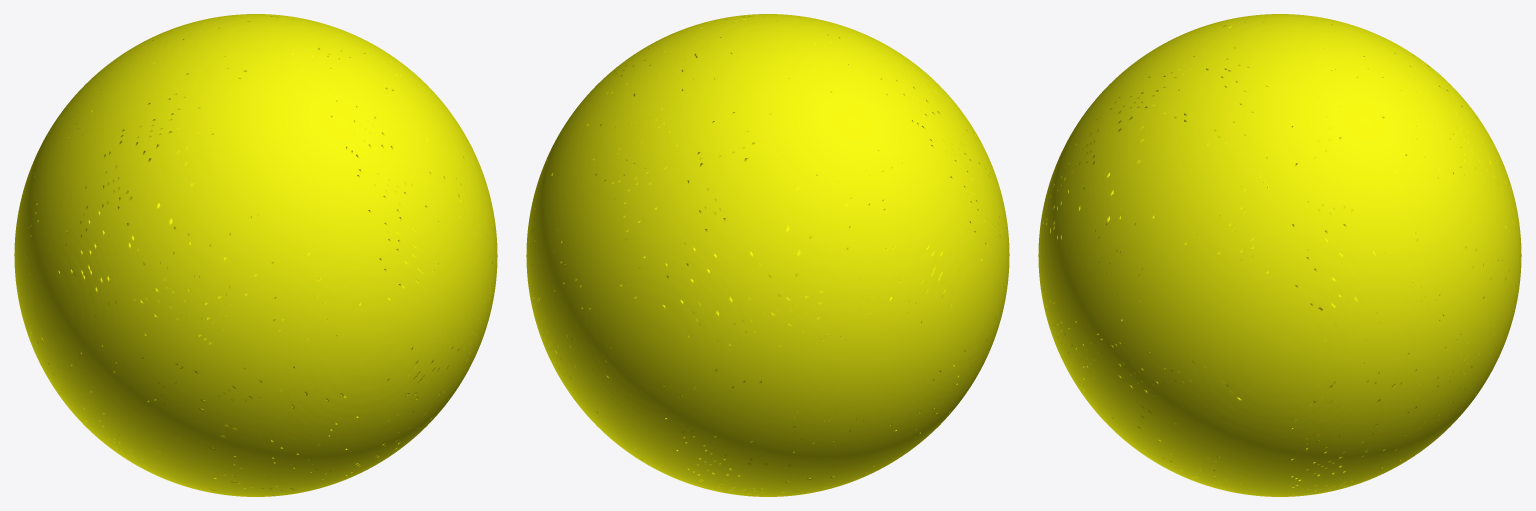
File: orb_n=1_ l=0 _m=0.fbx
3 renders of one model, left to right at view 1: azimuth 30°, elevation 25°; view 2: azimuth 150°, elevation 25°; view 3: azimuth 270°, elevation 25°, orthographic.
Visible parts, largest first — view 1: orb_n=1_ l=0 _m=0; view 2: orb_n=1_ l=0 _m=0; view 3: orb_n=1_ l=0 _m=0.
Boxes of the visible parts, bbox=[...] form: orb_n=1_ l=0 _m=0: bbox=[14, 14, 497, 496]; orb_n=1_ l=0 _m=0: bbox=[526, 14, 1009, 496]; orb_n=1_ l=0 _m=0: bbox=[1038, 14, 1521, 496].
Size of the model in its own units: 871 by 871 by 871.
